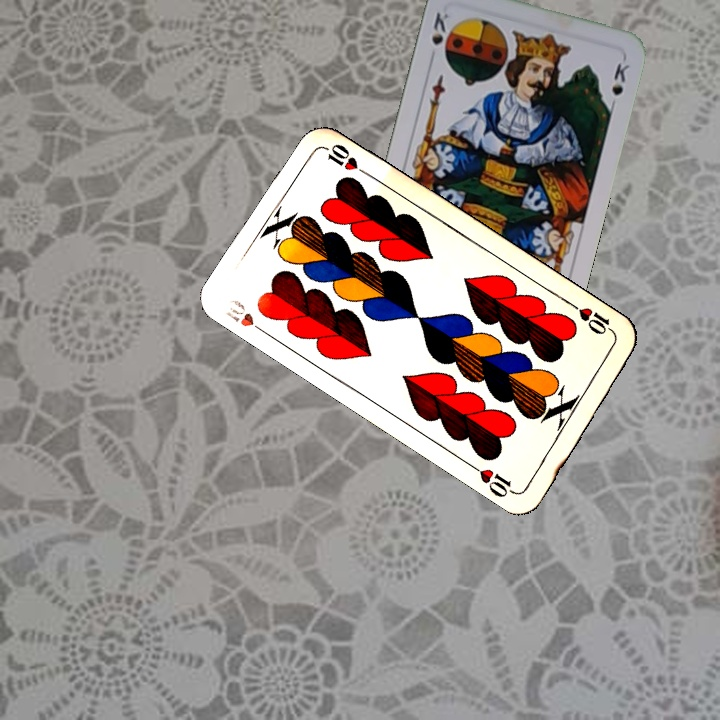H10: (222, 295, 272, 339), (567, 299, 619, 339)
SK: (425, 8, 453, 64)
